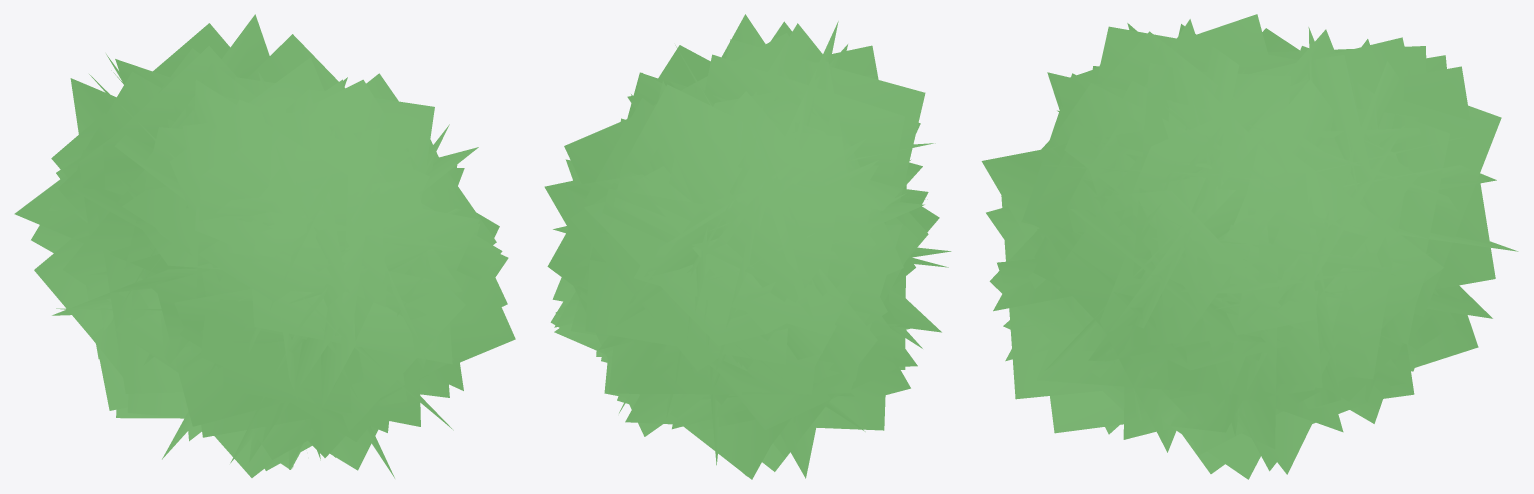
File: leaf_1.glb
3 renders of one model, left to right at view 1: azimuth 30°, elevation 25°; view 2: azimuth 150°, elevation 25°; view 3: azimuth 270°, elevation 25°, orthographic. The views are drawn at different scales.
Parts seen in each view (by area): view 1: Leaf_02_LOD1; view 2: Leaf_02_LOD1; view 3: Leaf_02_LOD1.
Part boxes in pixels (box(x1,y1,x2,y2)): Leaf_02_LOD1: box(14, 14, 515, 478); Leaf_02_LOD1: box(544, 14, 951, 479); Leaf_02_LOD1: box(981, 14, 1518, 479).
Bounding box in the file's own units: 1.15 × 1.17 × 1.34.
